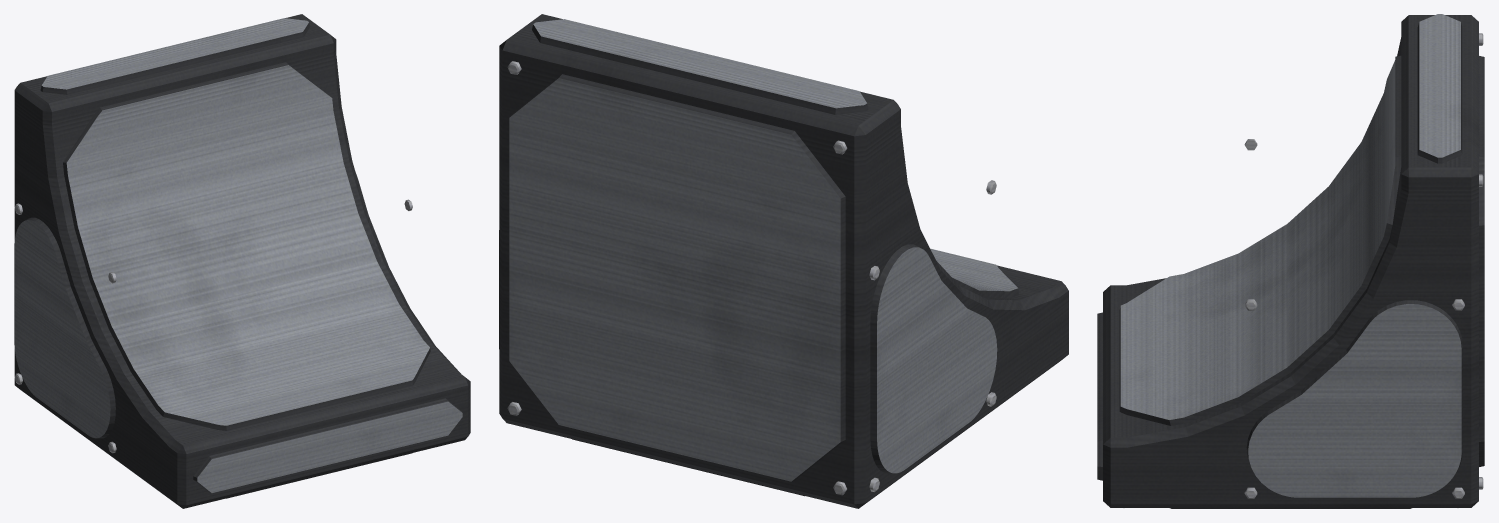
The model's file is R4B_CoveEdge.glb.
The picture shows the model from 3 angles, left to right: view 1: azimuth 30°, elevation 25°; view 2: azimuth 150°, elevation 25°; view 3: azimuth 270°, elevation 25°; orthographic projection. The views are drawn at different scales.
Visible parts, largest first — view 1: R4B_CoveEdge; view 2: R4B_CoveEdge; view 3: R4B_CoveEdge.
Part boxes in pixels (x1,y1,x2,y2): R4B_CoveEdge: (14,14,470,508); R4B_CoveEdge: (499,14,1068,508); R4B_CoveEdge: (1097,14,1484,508).
Bounding box in the file's own units: 0.52 × 0.52 × 0.52.
3 materials, 3 textured.
